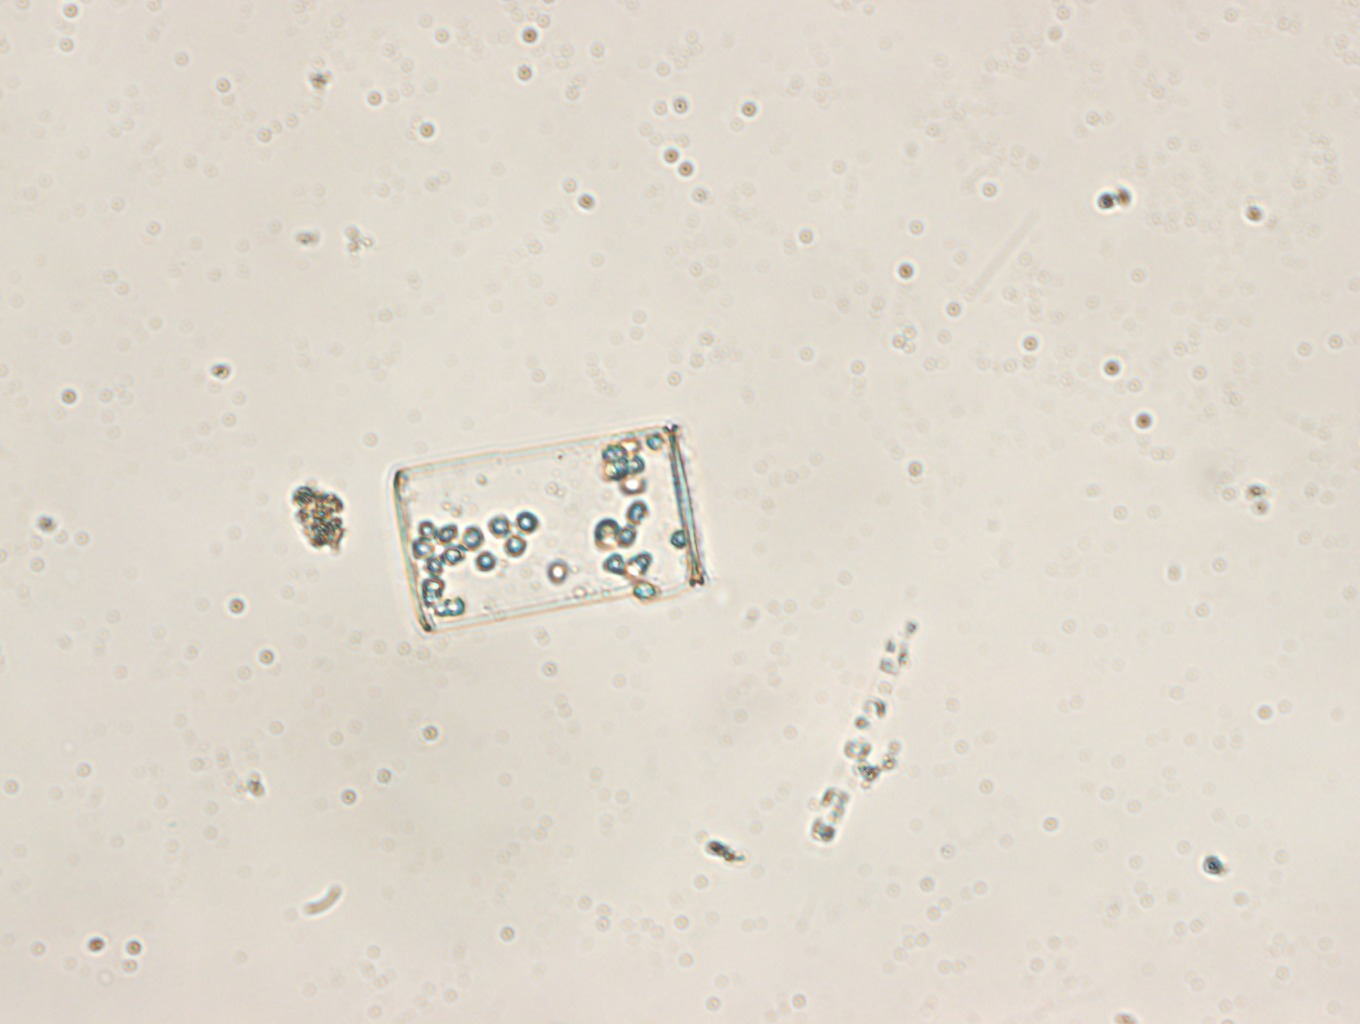guinardia flaccida: (380, 426, 705, 632)
